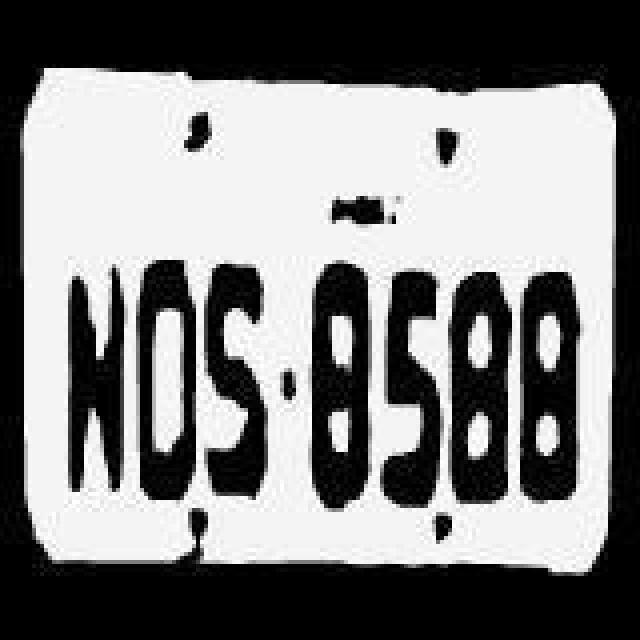5: (378, 254, 446, 514)
8: (298, 254, 374, 514), (514, 260, 590, 508), (446, 258, 514, 510)
N: (54, 260, 130, 492)
O: (130, 254, 198, 506)
S: (200, 256, 280, 504)
